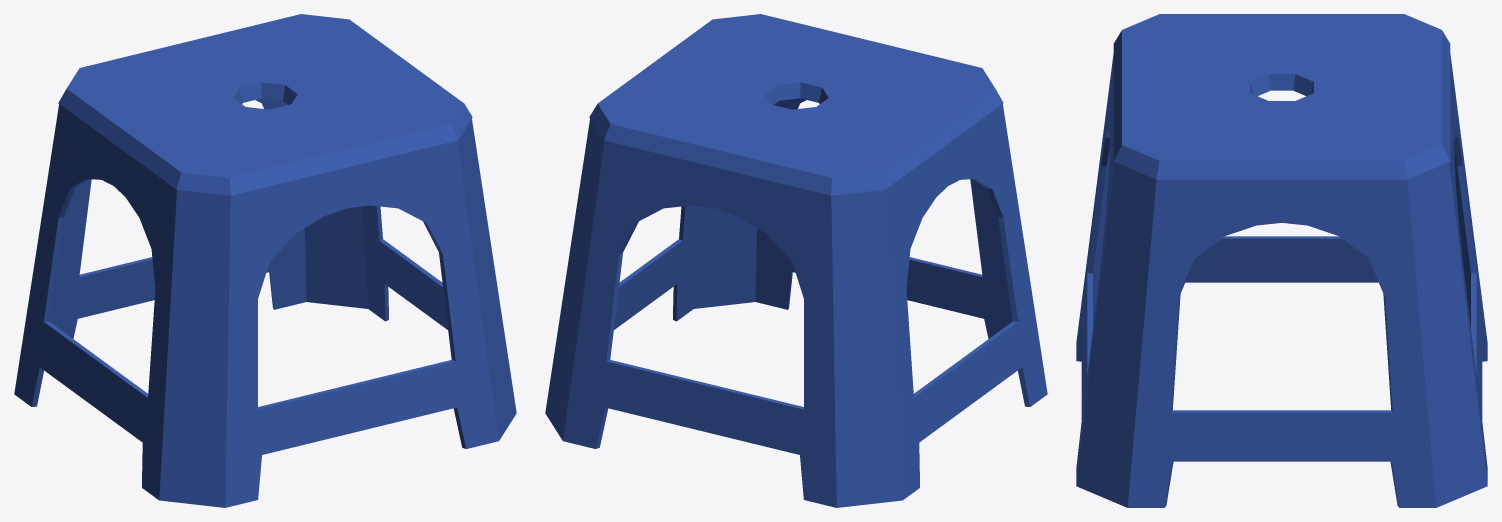
The model's file is SM_Furniture_StoolLow_Blue_01.fbx.
The picture shows the model from 3 angles, left to right: view 1: azimuth 30°, elevation 25°; view 2: azimuth 150°, elevation 25°; view 3: azimuth 270°, elevation 25°; orthographic projection. The views are drawn at different scales.
Visible parts, largest first — view 1: SM_Furniture_StoolLow_Blue_01; view 2: SM_Furniture_StoolLow_Blue_01; view 3: SM_Furniture_StoolLow_Blue_01.
Part boxes in pixels (box(x1,y1,x2,y2)): SM_Furniture_StoolLow_Blue_01: box(14, 14, 516, 507); SM_Furniture_StoolLow_Blue_01: box(545, 14, 1047, 507); SM_Furniture_StoolLow_Blue_01: box(1076, 14, 1487, 507).
Size of the model in its own units: 0.316 by 0.26 by 0.296.
Materials: 1 (1 with a texture image).
